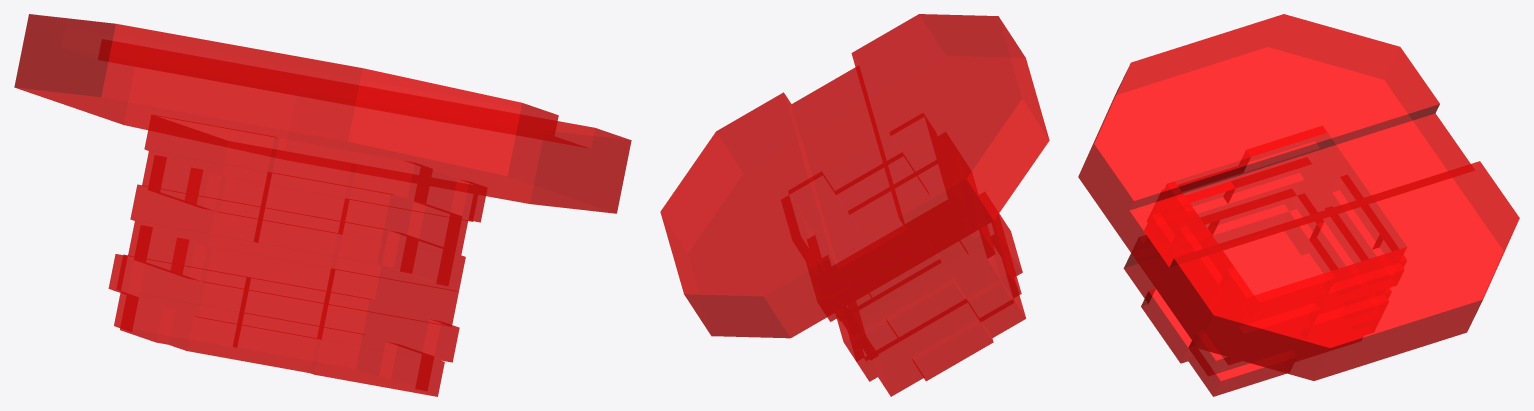
Rendered from rBoltAnim.fbx.
The picture shows the model from 3 angles, left to right: view 1: azimuth 30°, elevation 25°; view 2: azimuth 150°, elevation 25°; view 3: azimuth 270°, elevation 25°; orthographic projection. The views are drawn at different scales.
Visible parts, largest first — view 1: Cube; view 2: Cube; view 3: Cube.
Boxes of the visible parts, <box> form: Cube: <box>14,14,631,396</box>; Cube: <box>660,14,1049,396</box>; Cube: <box>1078,14,1519,396</box>.
Bounding box in the file's own units: 53.61 × 41.51 × 57.68.
